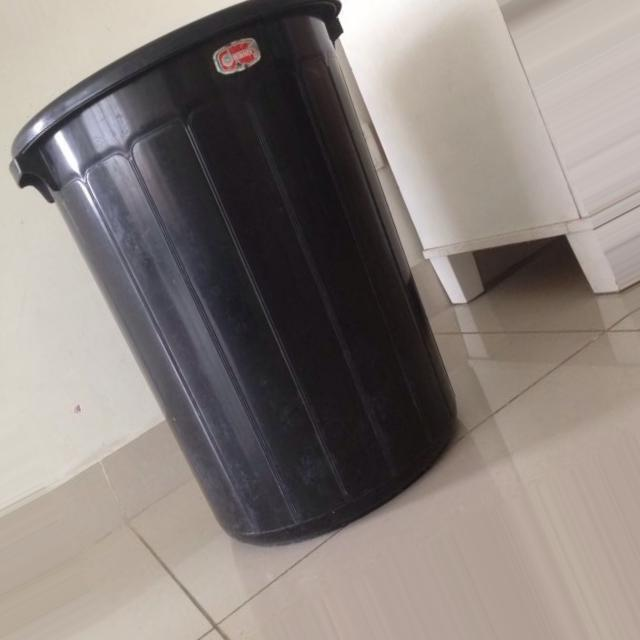Bote de Basura: (0, 0, 470, 541)
